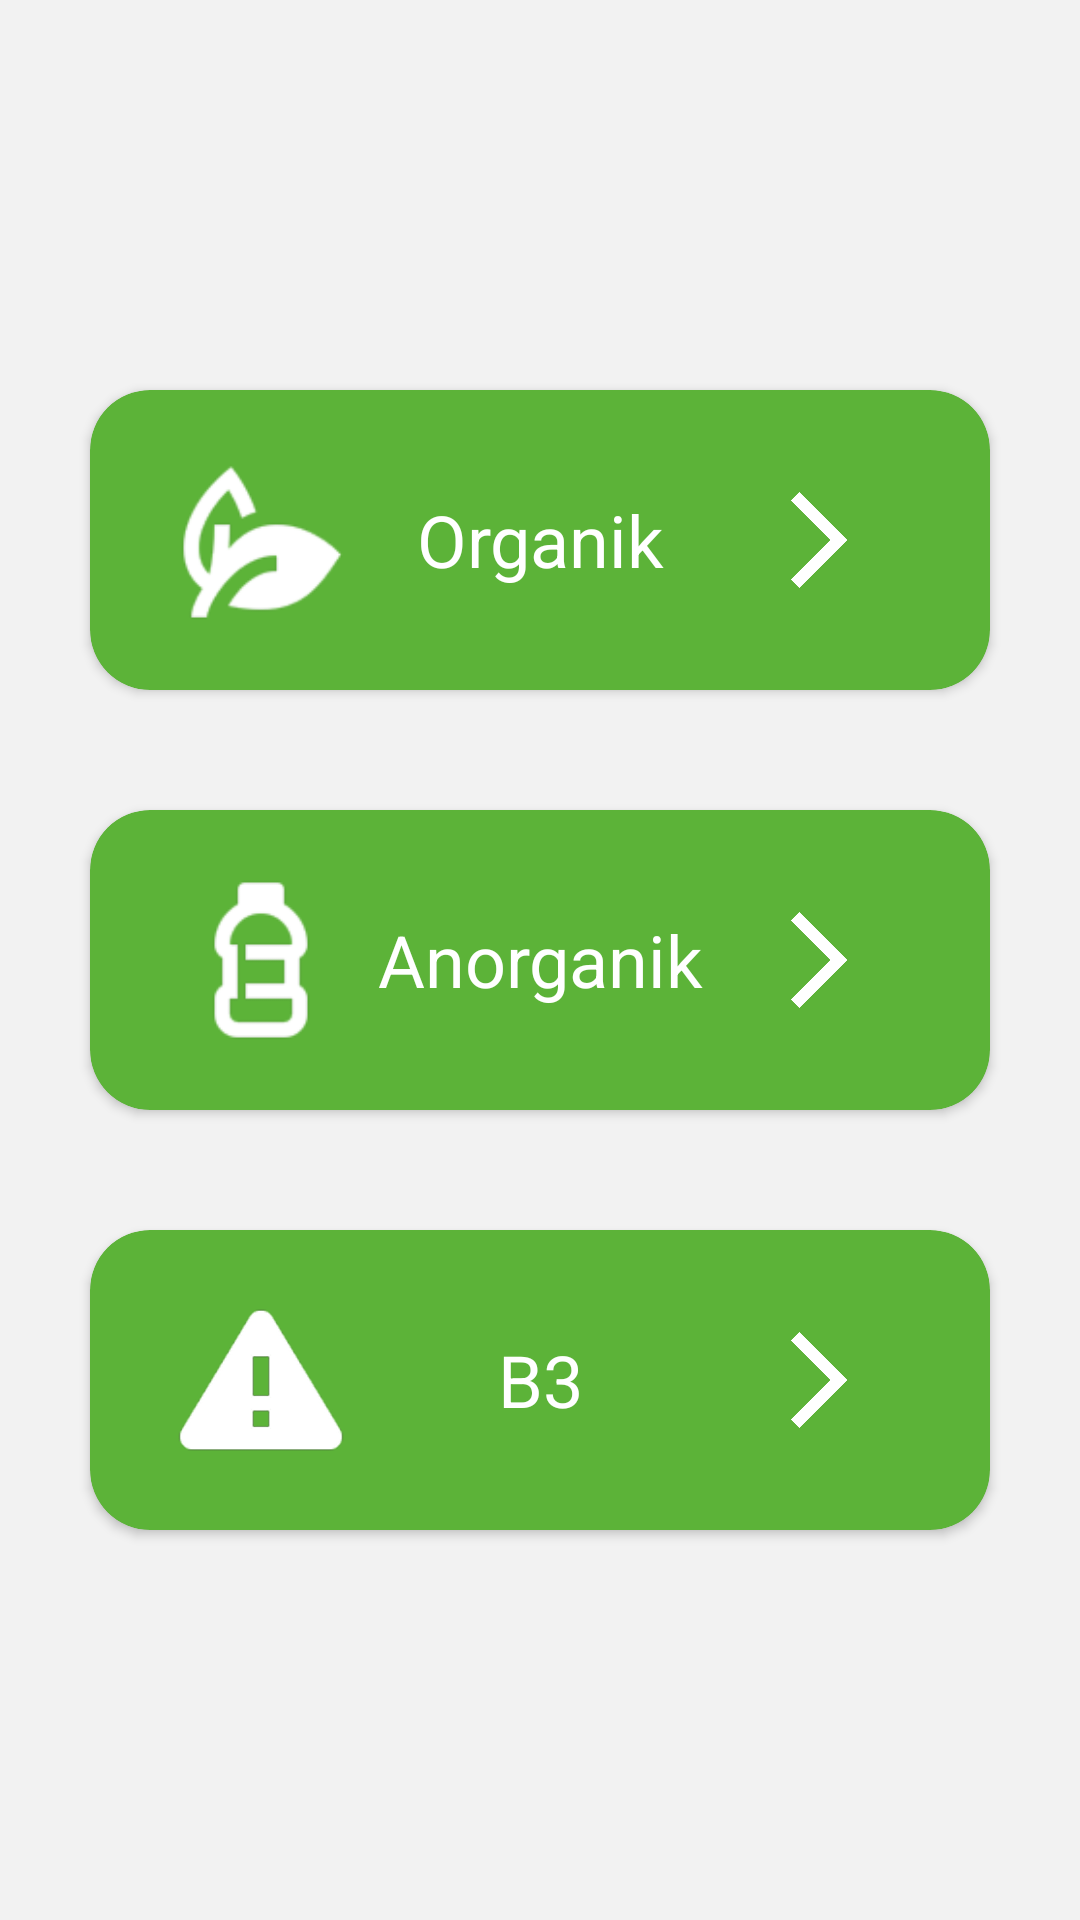

Icons on this 1080w x 1920h Android screen, each with its box as (x1, y1, x2, y2):
category anorganic: (214, 882, 308, 1038)
category organic: (183, 466, 341, 618)
